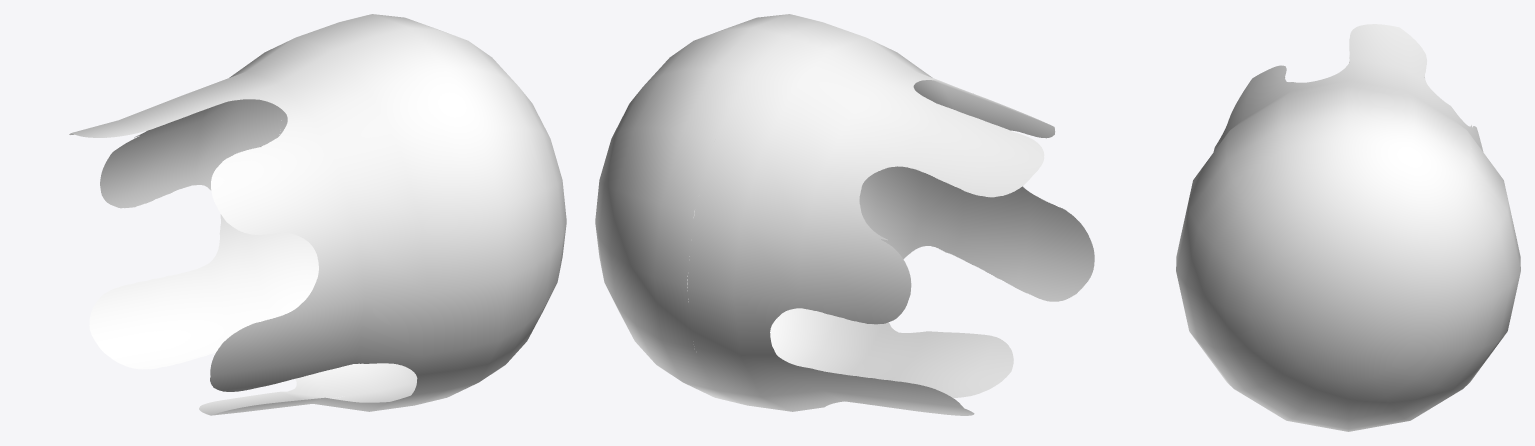
The model's file is bullet.fbx.
3 renders of one model, left to right at view 1: azimuth 30°, elevation 25°; view 2: azimuth 150°, elevation 25°; view 3: azimuth 270°, elevation 25°, orthographic. The views are drawn at different scales.
Visible parts, largest first — view 1: Sphere; view 2: Sphere; view 3: Sphere.
Part boxes in pixels (<box>): Sphere: <box>69,14,566,415</box>; Sphere: <box>595,14,1094,415</box>; Sphere: <box>1176,24,1520,431</box>.
Size of the model in its own units: 50.11 by 38.19 by 38.19.
